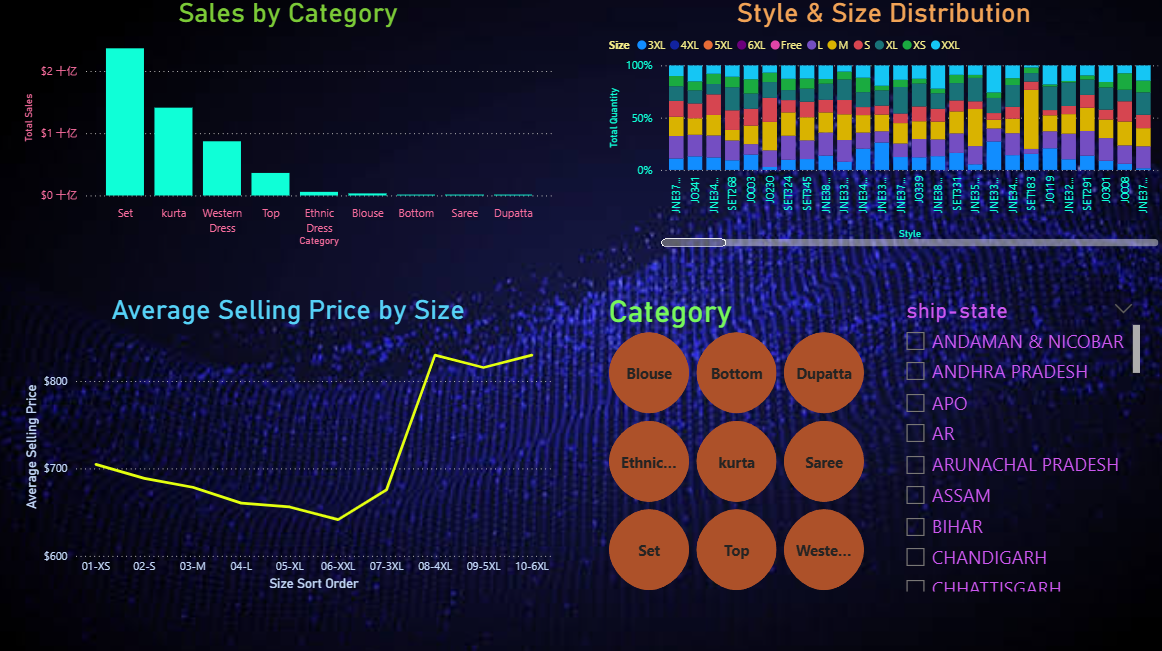

The dashboard page shown, as its layout file describes it:
{"tool":"powerbi","page":{"name":"Order & Style","canvas":[1280,720],"ordinal":2},"visuals":[{"type":"advancedSlicerVisual","fields":{"Values":["ASIN.Category"]},"box":[666.9,326.6,290.9,332.1],"z":0},{"type":"slicer","fields":{"Values":["Area.ship-state"]},"box":[985.3,326.6,274.4,332.1],"z":1000},{"type":"clusteredColumnChart","title":"Sales by Category","fields":{"Category":["DimProduct.Category"],"Y":["FactSales.Total Sales"]},"box":[25,0,590,280],"z":2000},{"type":"hundredPercentStackedColumnChart","title":"Style & Size Distribution","fields":{"Category":["DimProduct.Style"],"Y":["FactSales.Total Quantity"],"Series":["DimProduct.Size"]},"box":[666.9,0,613.4,279.9],"z":3000},{"type":"lineChart","title":"Average Selling Price by Size","fields":{"Y":["FactSales.Average Selling Price"],"Category":["DimProduct.Size Sort Order"]},"box":[25,327,590,332],"z":4000}]}

Visuals, with their boxes in screenshot pixels (x1, y1, x2, y2), scaled from the page's 1280x720 canvas onto the 1162x651 screenshot:
advancedSlicerVisual - ASIN.Category: l=605, t=295, r=870, b=596
slicer - Area.ship-state: l=894, t=295, r=1144, b=596
"Sales by Category" clusteredColumnChart: l=23, t=0, r=558, b=253
"Style & Size Distribution" hundredPercentStackedColumnChart: l=605, t=0, r=1161, b=253
"Average Selling Price by Size" lineChart: l=23, t=296, r=558, b=596
